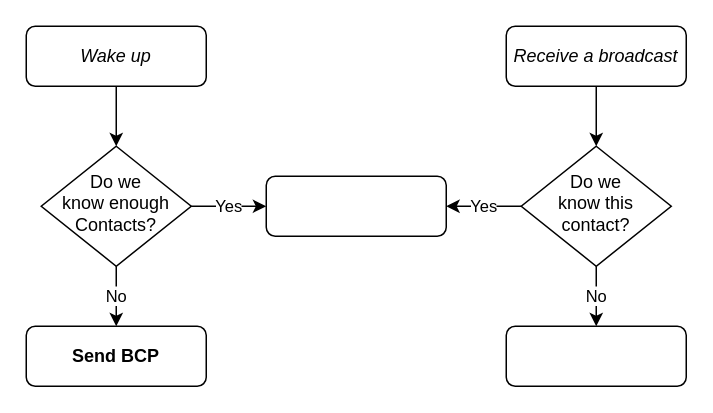
Some shapes in this 713 by 413 pixel diagram are drawn without their labels. The shapes that lost their labels are listed below. From the top down, each one's box as (x1, y1, x2, y2) in pixels, then its label:
(265, 175, 446, 236): End
(505, 325, 686, 386): Register Contact
